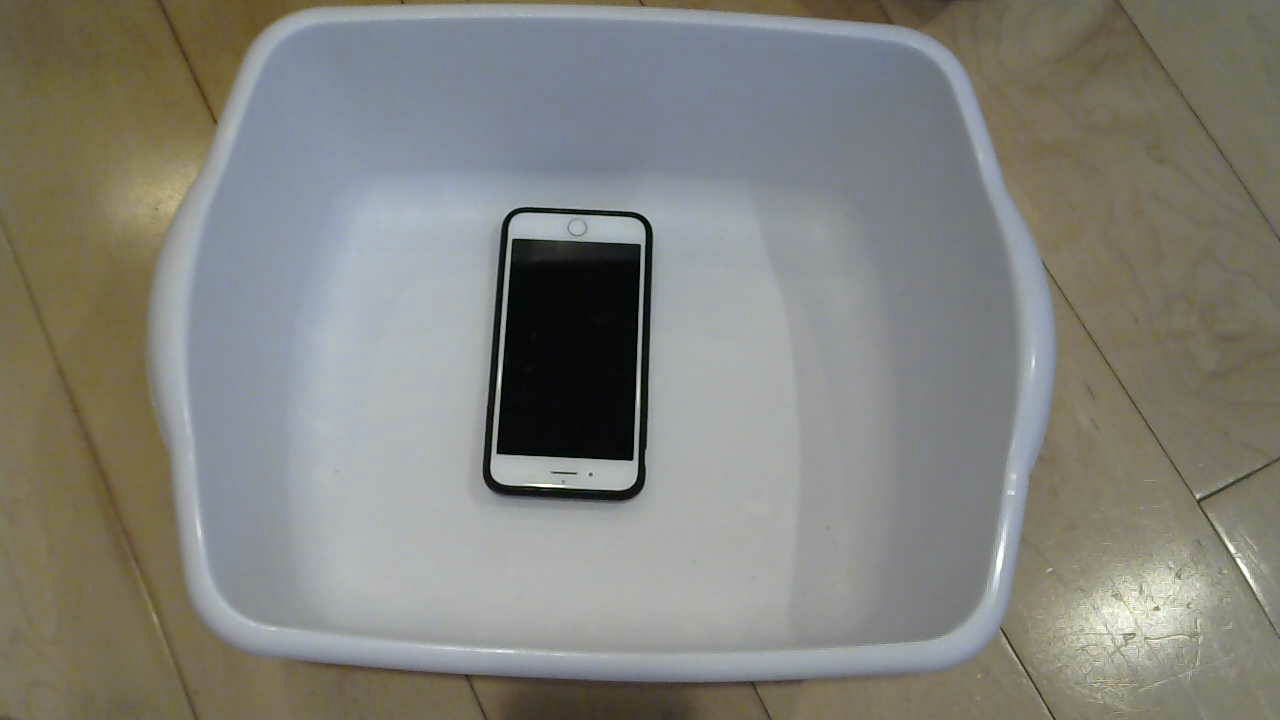phone: (469, 197, 654, 518)
